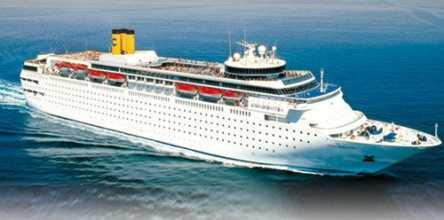youlun: (20, 17, 443, 181)
